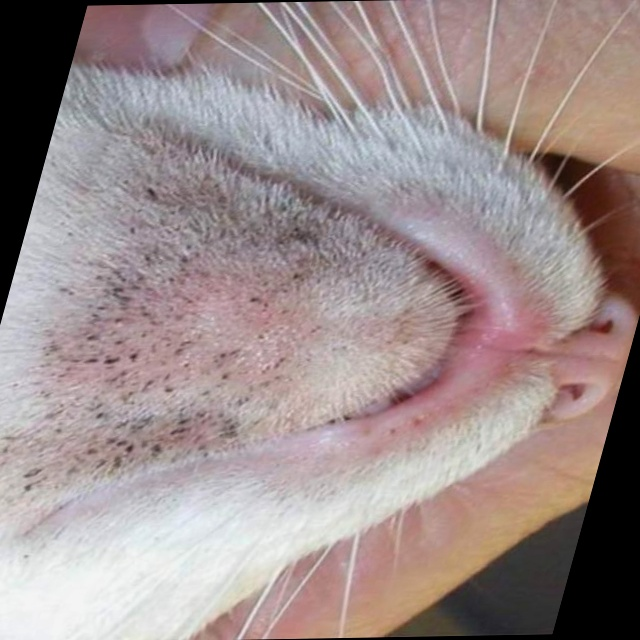acne: (2, 182, 376, 497)
